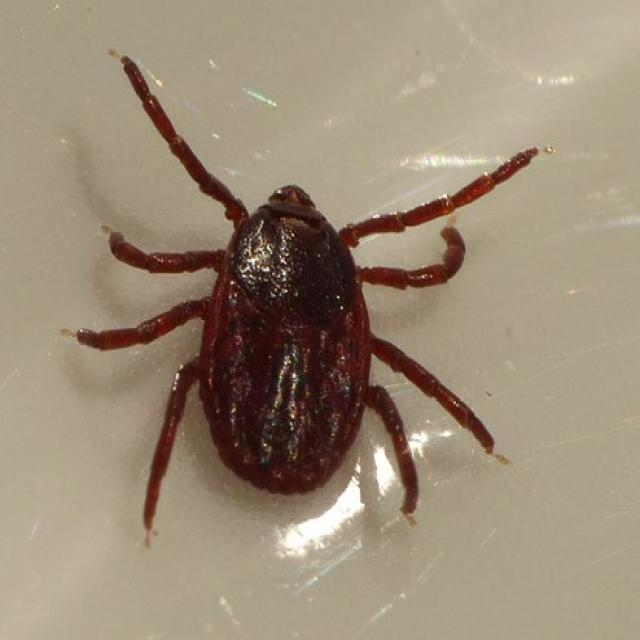Rhipicephalus Sanguineus-F: (71, 56, 531, 538)
